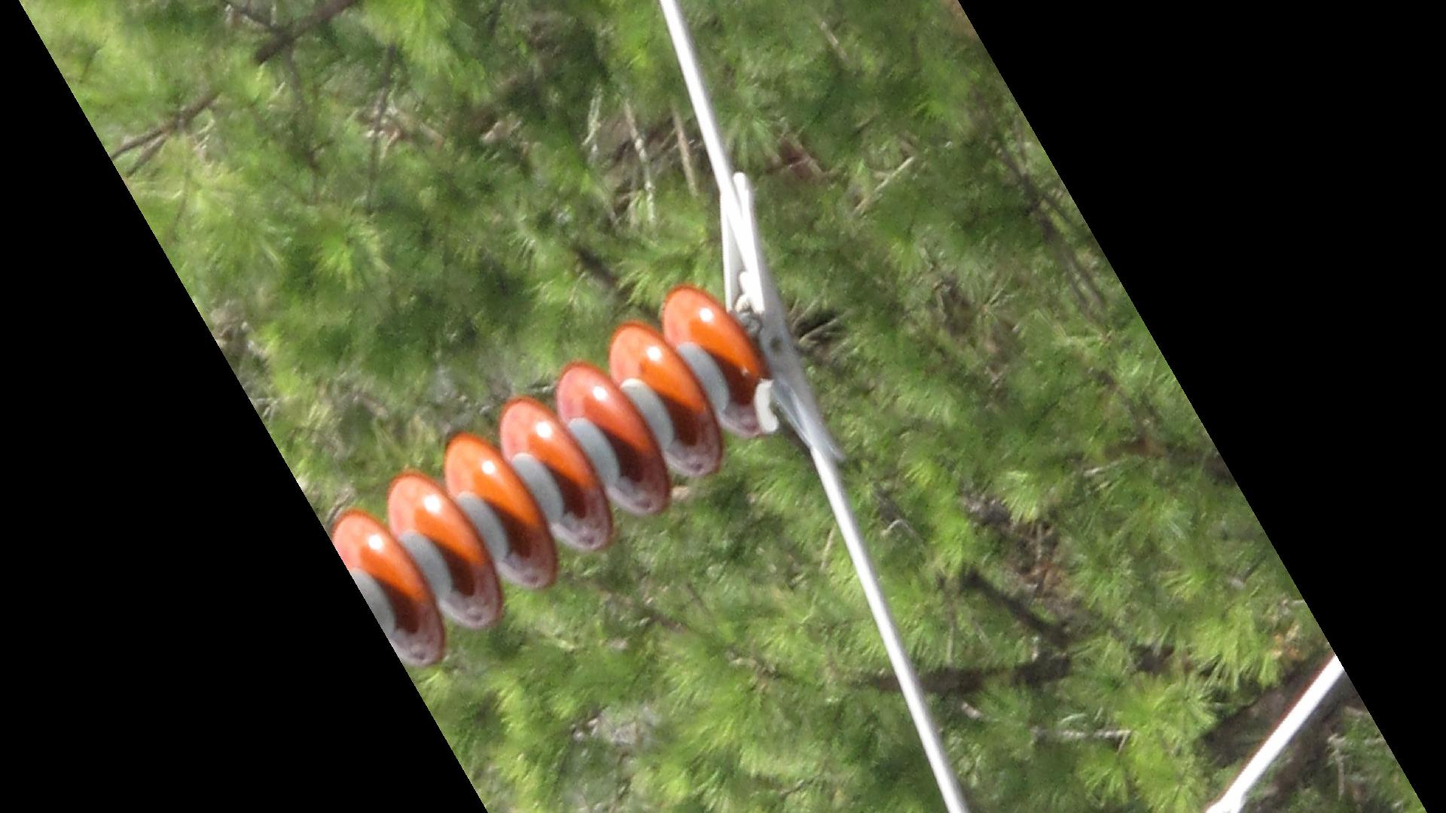insulator: (322, 279, 790, 674)
insulator_breakage: (737, 370, 786, 445)
